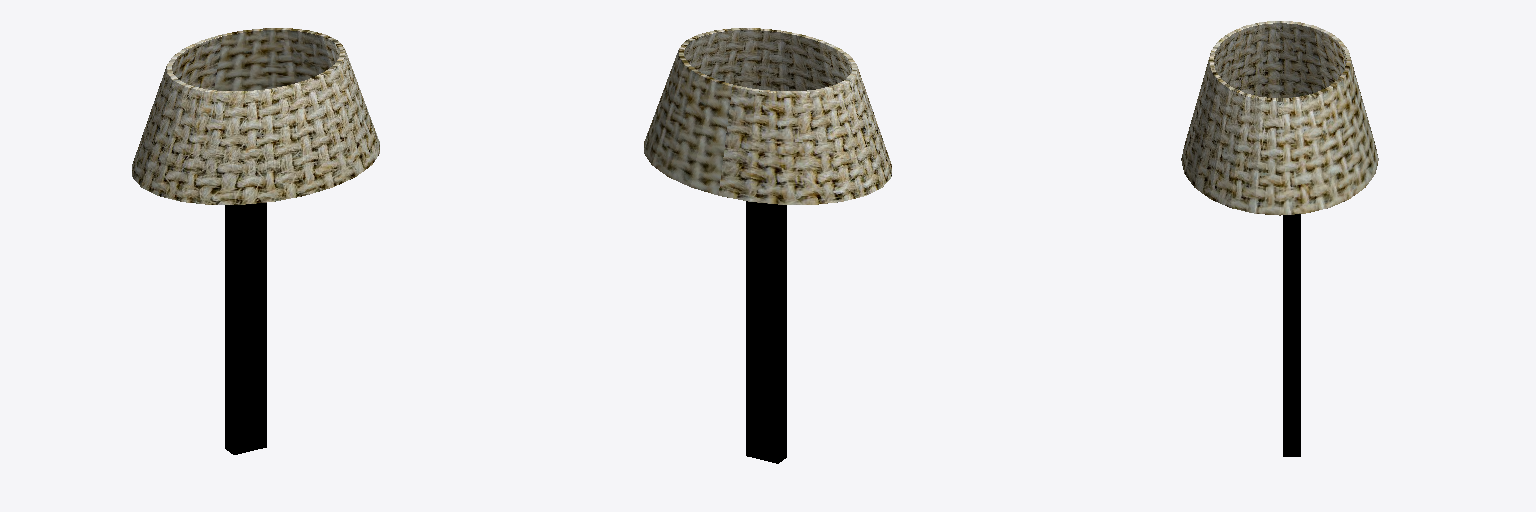
The picture shows the model from 3 angles: view 1: azimuth 30°, elevation 25°; view 2: azimuth 150°, elevation 25°; view 3: azimuth 270°, elevation 25°; orthographic projection.
Parts seen in each view (by area): view 1: pasted__pCube13 group; view 2: pasted__pCube13 group; view 3: pasted__pCube13 group.
Part boxes in pixels (x1,y1,x2,y2): pasted__pCube13 group: (132,28,379,454); pasted__pCube13 group: (644,28,891,463); pasted__pCube13 group: (1181,21,1378,456).
Size of the model in its own units: 0.5399 by 0.8787 by 0.4029.
Materials: 2 (1 with a texture image).